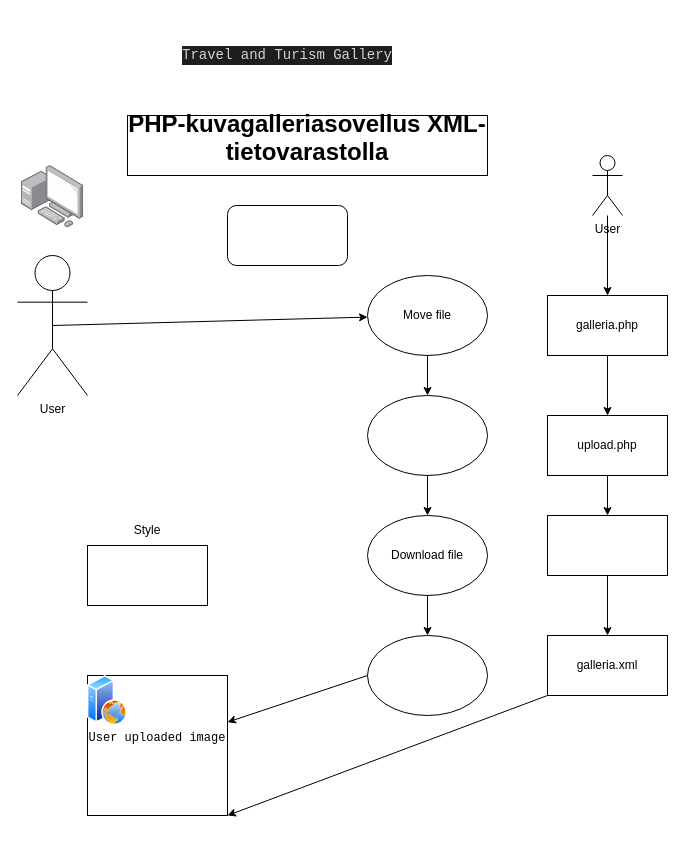
Image size: 685x841. Some labels were removed from this diagram. The shapes that lost their labels are listed below. From the top down, each one's box as (x1, y1, x2, y2) in pixels, then its label:
(226, 204, 348, 266): USE CASE
(366, 394, 488, 476): Upload file
(546, 514, 668, 576): my_functios.php
(86, 544, 208, 606): imageupload.css
(366, 634, 488, 716): XML
